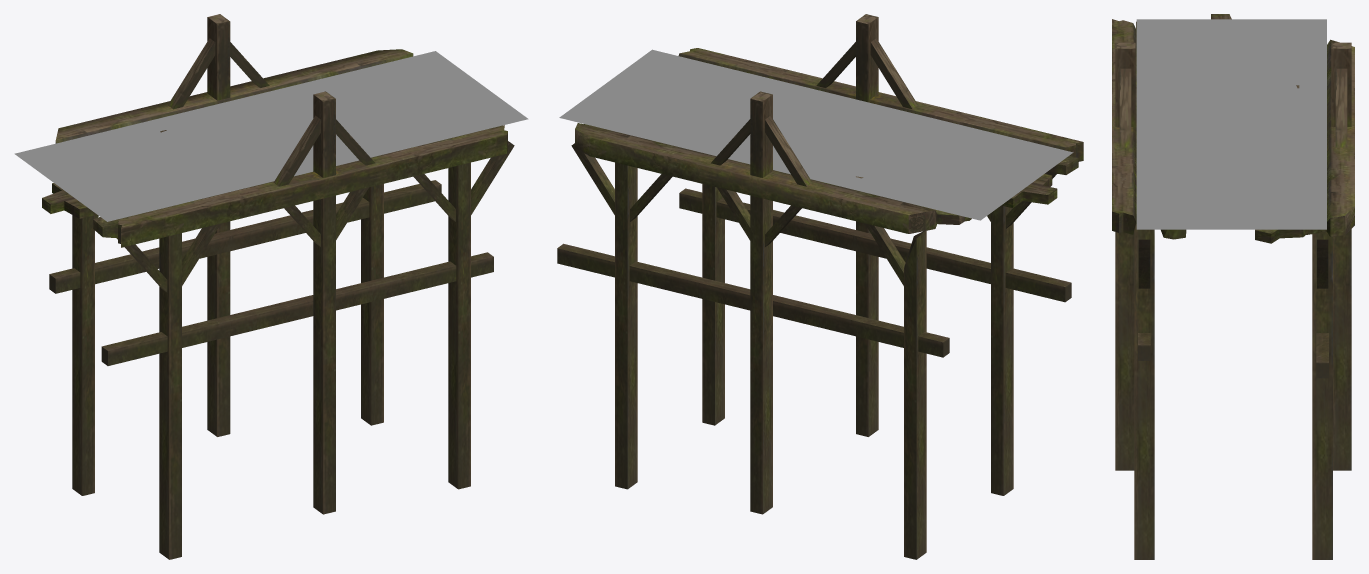
The model's file is SC001Jguodao_20.FBX.
3 views of the same model, side by side, from view 1: azimuth 30°, elevation 25°; view 2: azimuth 150°, elevation 25°; view 3: azimuth 270°, elevation 25° (orthographic). The views are drawn at different scales.
Parts seen in each view (by area): view 1: SC001Jguodao_20, SC001Jguodao_20_lujing; view 2: SC001Jguodao_20, SC001Jguodao_20_lujing; view 3: SC001Jguodao_20_lujing, SC001Jguodao_20.
Part boxes in pixels (<box>): SC001Jguodao_20: <box>42,14,514,559</box>; SC001Jguodao_20_lujing: <box>14,51,528,221</box>; SC001Jguodao_20: <box>557,14,1083,559</box>; SC001Jguodao_20_lujing: <box>559,49,1073,220</box>; SC001Jguodao_20_lujing: <box>1136,19,1326,229</box>; SC001Jguodao_20: <box>1112,14,1354,559</box>.
Size of the model in its own units: 21.98 by 20.41 by 10.22.
